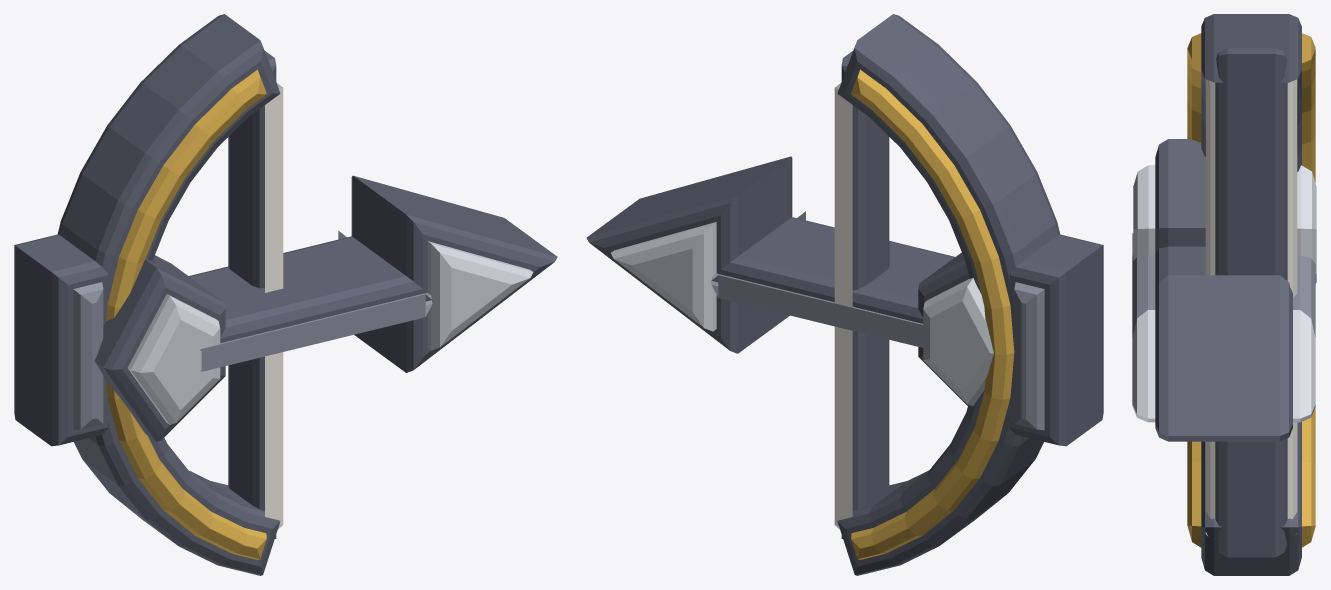
File: bow-1.glb
3 views of the same model, side by side, from view 1: azimuth 30°, elevation 25°; view 2: azimuth 150°, elevation 25°; view 3: azimuth 270°, elevation 25° (orthographic). The views are drawn at different scales.
Visible parts, largest first — view 1: bow-glyph; view 2: bow-glyph; view 3: bow-glyph.
Part boxes in pixels (x1,y1,x2,y2): bow-glyph: [14, 14, 557, 575]; bow-glyph: [586, 14, 1103, 575]; bow-glyph: [1132, 14, 1316, 575].
Bounding box in the file's own units: 0.8897 × 0.94 × 0.2792.
